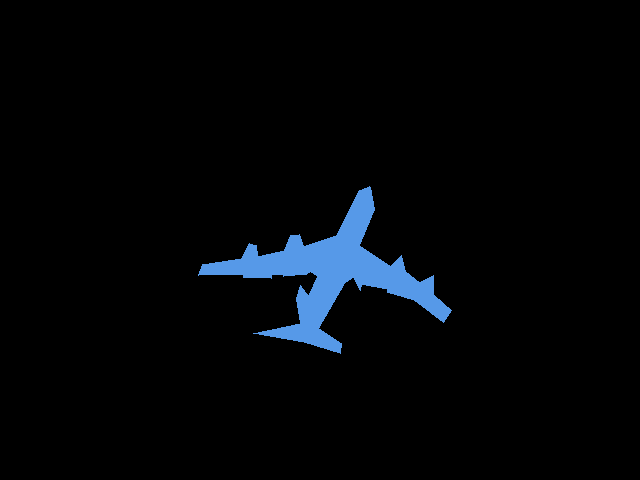Airplane: (198, 186, 452, 354)
